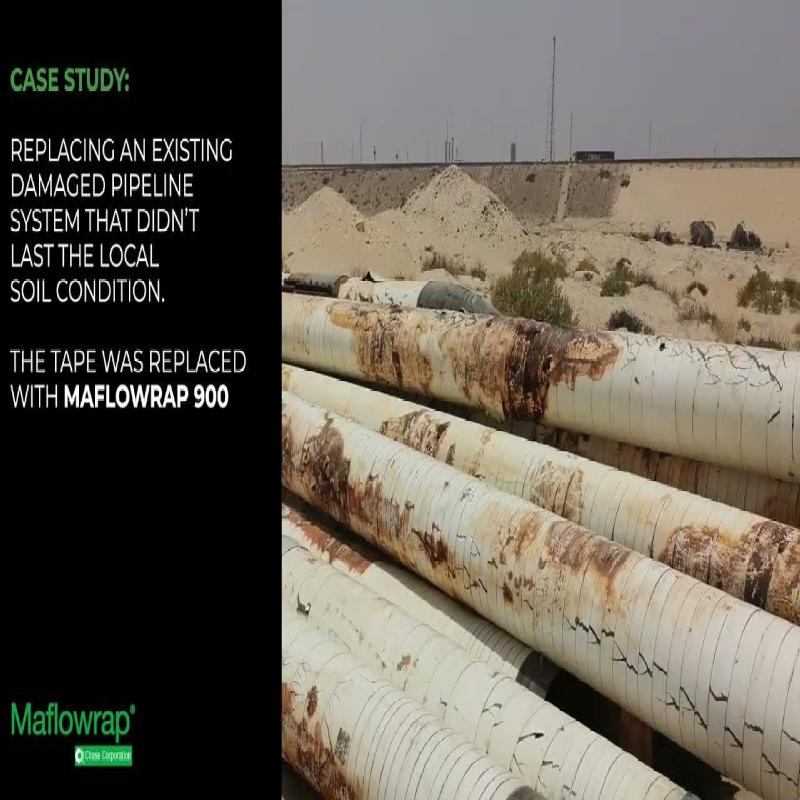corrosion: (339, 284, 504, 403), (507, 289, 584, 451), (303, 400, 357, 552)
